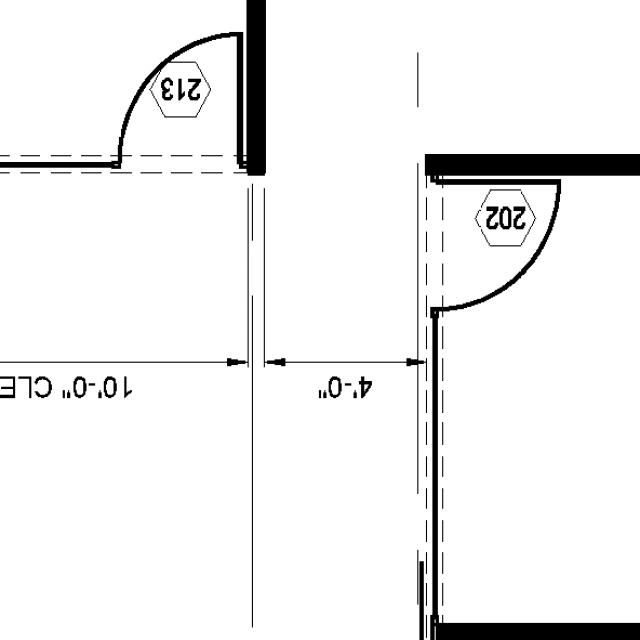Doors: (115, 28, 246, 177), (425, 177, 565, 316)
